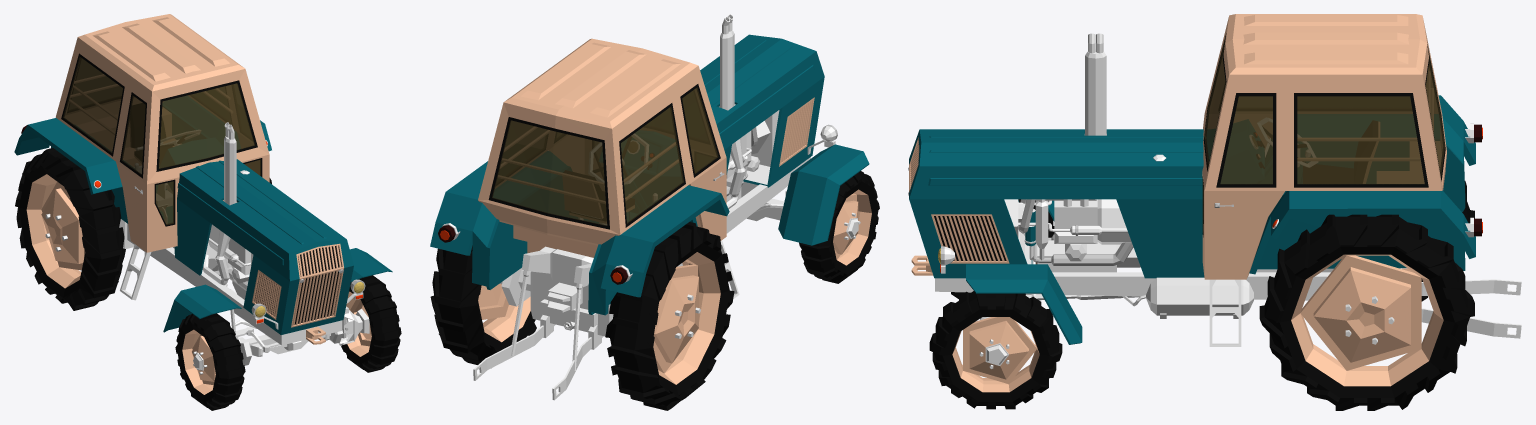
File: Tractor_02.FBX
3 renders of one model, left to right at view 1: azimuth 30°, elevation 25°; view 2: azimuth 150°, elevation 25°; view 3: azimuth 270°, elevation 25°, orthographic. The views are drawn at different scales.
Parts seen in each view (by area): view 1: Tractor_02, cabin, wheel_b_r, wheel_f_r, wheel_f_l, mudguard_r, exhaust, motor, seat, mudguard_l, steering-l, lights; view 2: cabin, Tractor_02, wheel_b_r, wheel_b_l, gearBack, mudguard_r, wheel_f_r, exhaust, motor, seat, steeringWheel, lights; view 3: Tractor_02, cabin, wheel_b_l, wheel_f_l, motor, mudguard_l, compressor, exhaust, gearBack, seat, lights.
Boxes of the visible parts, x1,y1,x2,y2 form: Tractor_02: (14,96,353,365); cabin: (55,14,269,252); wheel_b_r: (15,148,125,310); wheel_f_r: (175,313,245,410); wheel_f_l: (341,275,401,372); mudguard_r: (163,284,241,333); exhaust: (202,122,236,285); motor: (205,224,253,299); seat: (130,103,172,205); mudguard_l: (349,248,392,281); steering-l: (338,306,362,345); lights: (93,140,365,329); cabin: (478,38,726,257); Tractor_02: (430,34,824,336); wheel_b_r: (605,222,734,410); wheel_b_l: (430,245,536,364); gearBack: (473,246,603,400); mudguard_r: (778,144,869,245); wheel_f_r: (799,171,879,283); exhaust: (720,14,745,208); motor: (719,104,779,200); seat: (563,171,634,224); steeringWheel: (589,134,648,208); lights: (442,124,837,282); Tractor_02: (908,95,1475,346); cabin: (1202,14,1446,279); wheel_b_l: (1259,214,1474,410); wheel_f_l: (929,291,1062,409); motor: (1004,199,1140,272); mudguard_l: (966,264,1082,344); compressor: (1122,277,1253,318); exhaust: (1085,33,1106,135); gearBack: (1399,268,1521,338); seat: (1303,121,1379,183); lights: (941,123,1473,273).
Bounding box in the file's own units: 21.94 × 46.54 × 26.83.
